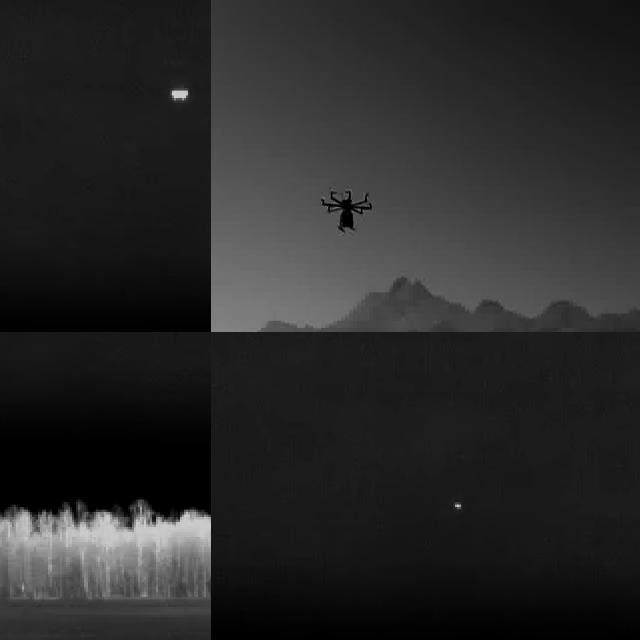1: (160, 83, 196, 113), (440, 494, 468, 524)
drone: (319, 181, 372, 234)
